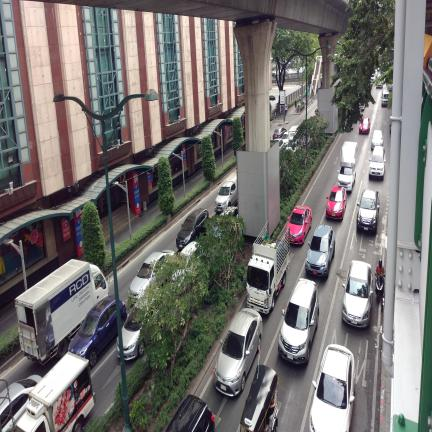car: (214, 308, 263, 396), (309, 344, 355, 432), (69, 295, 118, 367), (278, 278, 319, 364), (0, 375, 42, 432), (129, 250, 174, 297), (342, 260, 372, 327), (166, 394, 215, 432), (305, 224, 335, 277), (176, 208, 209, 249), (122, 309, 144, 360), (369, 146, 386, 180), (371, 130, 384, 150), (120, 300, 127, 326), (272, 127, 286, 140), (281, 131, 290, 147), (116, 336, 120, 357)
human: (265, 391, 277, 431), (375, 259, 385, 276)
motorbike: (240, 364, 279, 432), (375, 273, 384, 302)
pickup: (356, 189, 379, 233), (214, 174, 238, 214)
taxi: (286, 206, 312, 244), (326, 186, 346, 219), (359, 117, 370, 133)
truck: (15, 259, 109, 364), (15, 352, 94, 432), (246, 222, 290, 314), (337, 142, 358, 191)
van: (381, 90, 389, 107)
